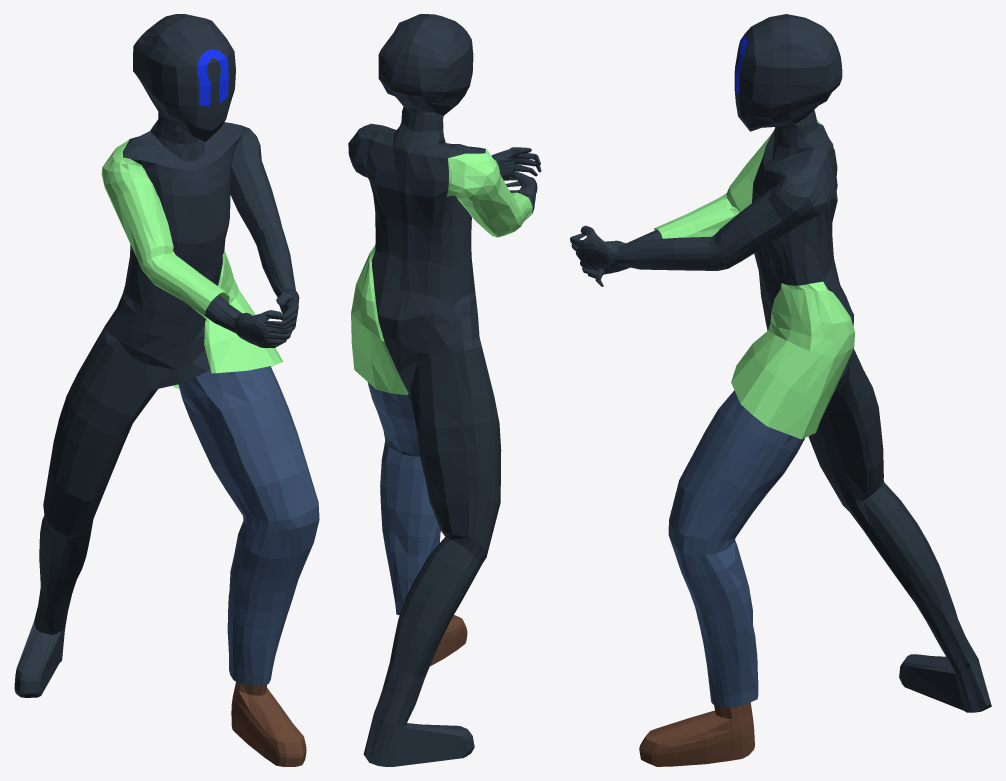
File: Mar_WF_000004.obj
3 renders of one model, left to right at view 1: azimuth 30°, elevation 25°; view 2: azimuth 150°, elevation 25°; view 3: azimuth 270°, elevation 25°, orthographic. The views are drawn at different scales.
Parts seen in each view (by area): view 1: Cube.000_Cube.001; view 2: Cube.000_Cube.001; view 3: Cube.000_Cube.001.
Boxes of the visible parts, x1=… form: Cube.000_Cube.001: x1=14, y1=14, x2=319, y2=766; Cube.000_Cube.001: x1=348, y1=14, x2=541, y2=766; Cube.000_Cube.001: x1=570, y1=14, x2=991, y2=766.
Size of the model in its own units: 1.09 by 3.77 by 1.99.
